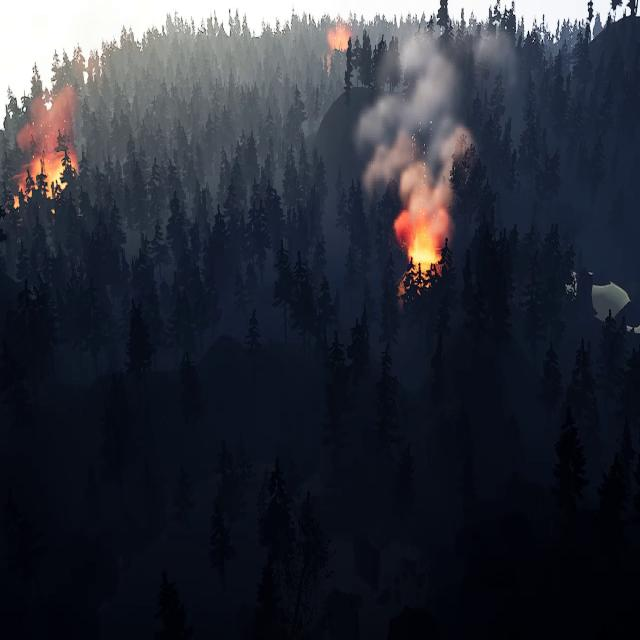fire: (396, 210, 444, 276), (20, 152, 79, 203), (328, 22, 352, 50)
smoke: (356, 16, 515, 214), (20, 86, 79, 160)
